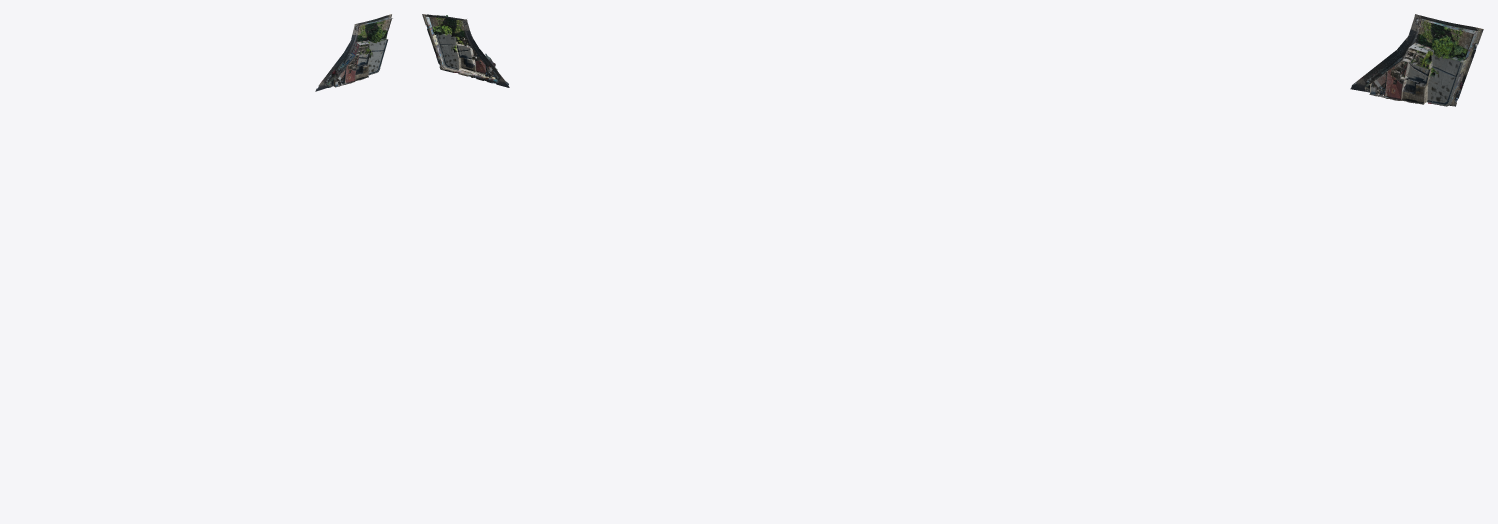
The model's file is SB06_Rhino.glb.
3 views of the same model, side by side, from view 1: azimuth 30°, elevation 25°; view 2: azimuth 150°, elevation 25°; view 3: azimuth 330°, elevation 25° (orthographic). The views are drawn at different scales.
Parts seen in each view (by area): view 1: Object_218; view 2: Object_218; view 3: Object_218.
Part boxes in pixels (x1,y1,x2,y2): Object_218: (315, 14, 392, 91); Object_218: (422, 14, 509, 87); Object_218: (1350, 14, 1483, 106).
Bounding box in the file's own units: 489815 × 478063 × 21923.
Materials: 1 (1 with a texture image).
